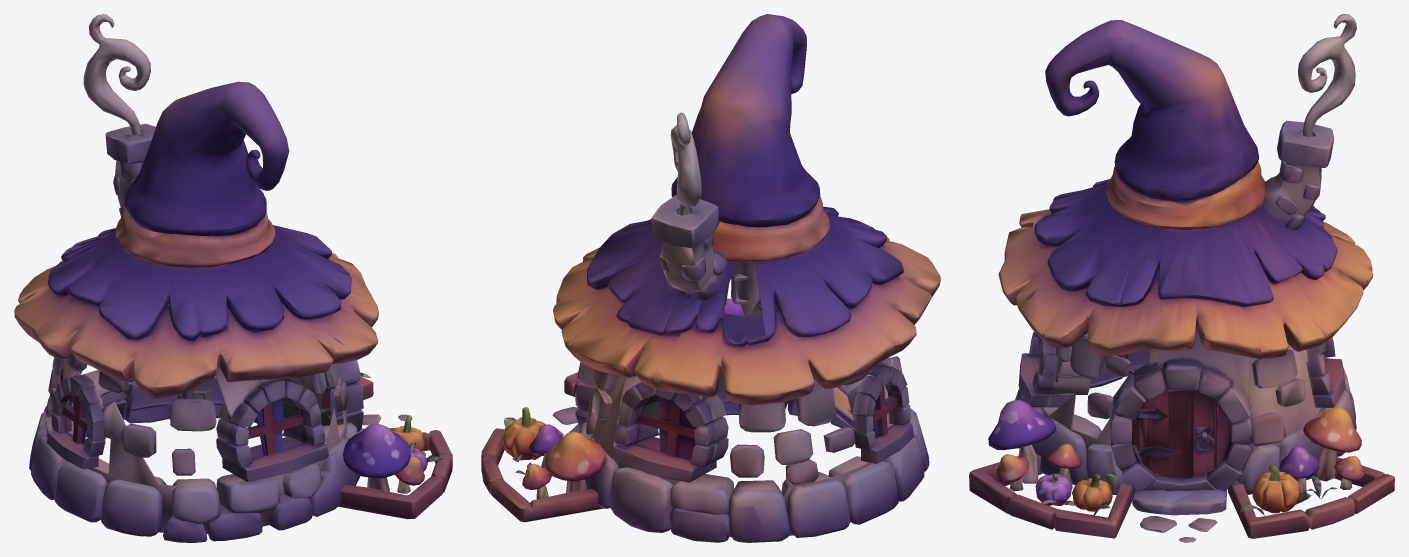
Rendered from L4_WitchCottage_LOD1.fbx.
The picture shows the model from 3 angles, left to right: view 1: azimuth 30°, elevation 25°; view 2: azimuth 150°, elevation 25°; view 3: azimuth 270°, elevation 25°; orthographic projection. The views are drawn at different scales.
Visible parts, largest first — view 1: L4_WitchCottage_LOD1; view 2: L4_WitchCottage_LOD1; view 3: L4_WitchCottage_LOD1.
Boxes of the visible parts, box(x1,y1,x2,y2) form: L4_WitchCottage_LOD1: box(14, 14, 452, 542); L4_WitchCottage_LOD1: box(481, 14, 940, 542); L4_WitchCottage_LOD1: box(969, 14, 1394, 542).
Bounding box in the file's own units: 5.7 × 6.01 × 5.52.
1 material, 1 textured.
